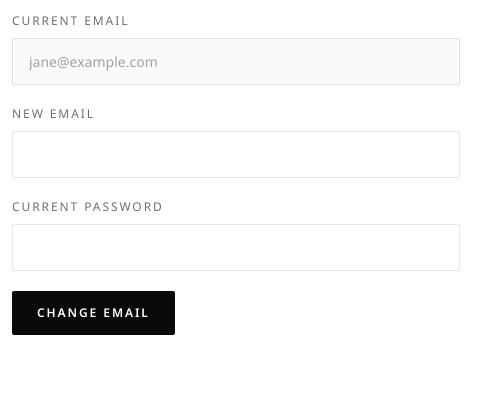
Test: ChangeEmailForm › shows the server error on failure
The width and height of the screenshot is (480, 419).
Type "new@example.com" into the field labelled "New email" at (236, 154), box [12,131,460,178]
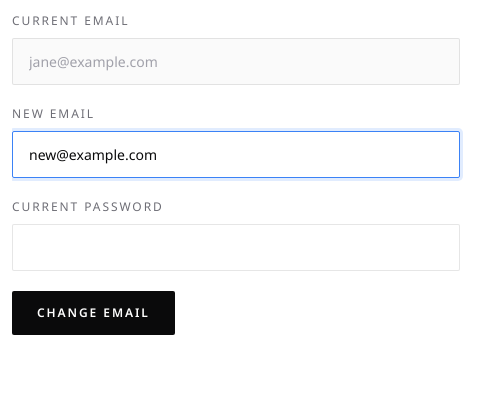
Type "wrong-password" into the password field labelled "Current password" at (236, 248), box [12,224,460,271]
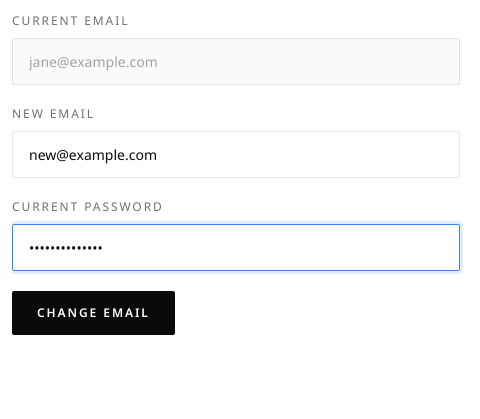
Click the button "Change email" at (93, 313), box [12,291,175,335]
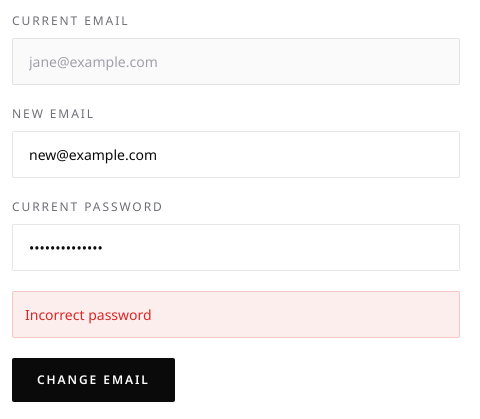
expect the text "Incorrect password" is shown: met, box [12,291,460,338]
